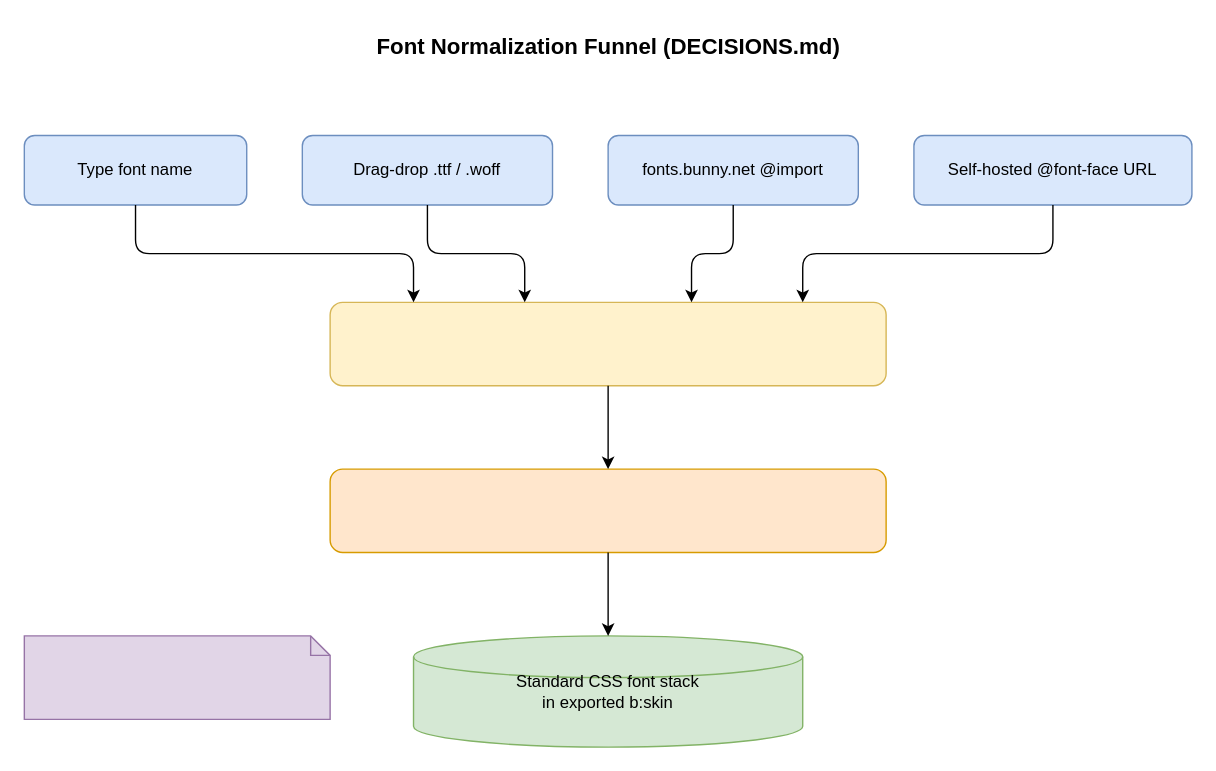
The diagram is 1216 pixels wide and 771 high, and some of its shapes have lost their labels. Here are the shapes that lost their labels. From the top down, the centre of each, then its label:
At (x=607, y=343): "UI coerces to font name string (no binary stored in ThemeState)".
At (x=607, y=510): "resolve_font_stack() mor_website_core/config/fonts.rs".
At (x=176, y=677): "Single parser — DRY, one place to maintain".
